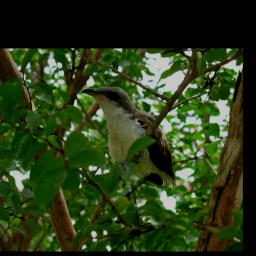Cuckoo: (83, 85, 177, 191)
